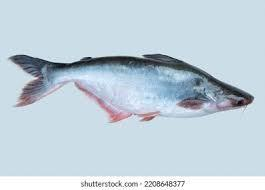Pangasius: (13, 56, 251, 124)
